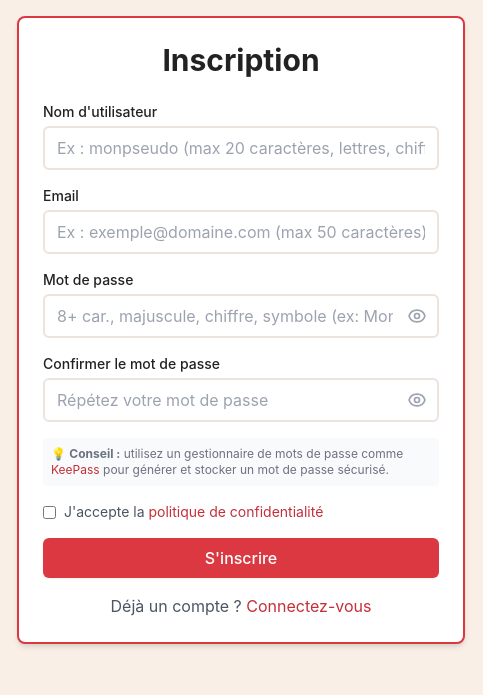
Test: RegisterPage (intégration) › affiche la barre de force du mot de passe lors de la saisie
Type "StrongP@ss1!" into the password field labelled "Mot de passe" at point(241, 316), box [43,294,439,338]
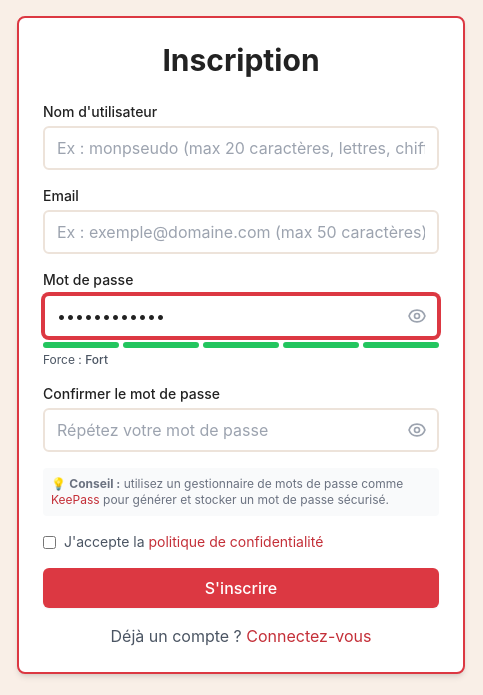
Expected: the text "Force : Fort" is shown, [43,352,108,367]
